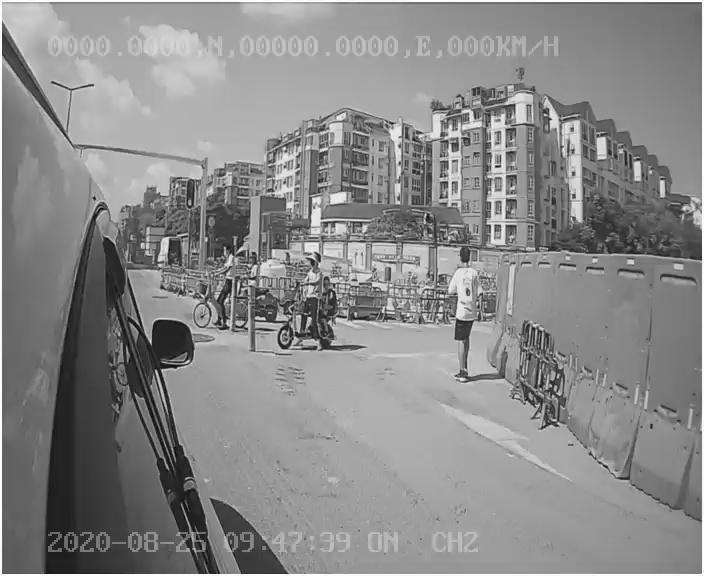person: (436, 244, 489, 385)
